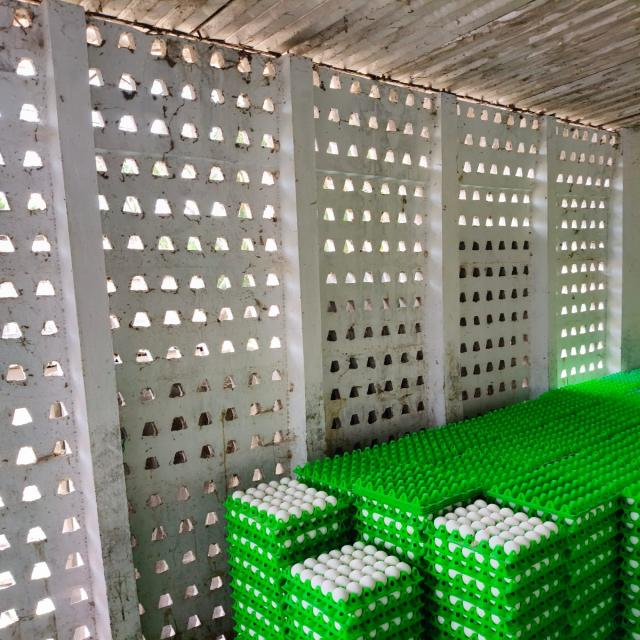egg_tray: (89, 22, 294, 640), (429, 498, 565, 634), (459, 201, 535, 416), (296, 421, 477, 504), (314, 68, 437, 186), (491, 432, 636, 523), (434, 391, 619, 456), (286, 541, 421, 630), (486, 417, 603, 516), (430, 525, 567, 607), (296, 428, 460, 496), (550, 194, 609, 382), (226, 478, 347, 569), (356, 489, 477, 579), (496, 498, 619, 585), (433, 498, 565, 578), (427, 566, 565, 638), (476, 390, 613, 461), (287, 541, 419, 612), (552, 500, 619, 633), (355, 496, 466, 569), (431, 556, 565, 616), (355, 450, 479, 514), (454, 421, 564, 490), (431, 559, 566, 613), (226, 478, 345, 539), (431, 566, 565, 620), (354, 456, 478, 514), (478, 412, 575, 486), (356, 490, 477, 546), (441, 405, 535, 476), (458, 392, 581, 446), (467, 405, 563, 474), (495, 387, 604, 445), (426, 589, 563, 635), (432, 555, 565, 602), (227, 519, 348, 570), (488, 487, 619, 534), (561, 389, 637, 470), (427, 596, 564, 640), (449, 421, 539, 487), (295, 446, 406, 499), (490, 490, 619, 535), (296, 446, 402, 500), (287, 598, 423, 640), (289, 598, 423, 640), (567, 395, 637, 474), (230, 545, 286, 640), (572, 434, 637, 514), (427, 603, 566, 640), (352, 426, 461, 469), (287, 607, 423, 640), (355, 521, 432, 579), (379, 424, 466, 475), (475, 440, 566, 488), (435, 404, 520, 454), (229, 545, 285, 619), (301, 443, 393, 486), (229, 547, 287, 614), (230, 570, 287, 638), (565, 554, 620, 624), (589, 427, 639, 501), (295, 448, 375, 493), (566, 514, 620, 579), (371, 425, 463, 462), (551, 500, 619, 549), (355, 496, 429, 540), (355, 512, 428, 556), (380, 423, 466, 460), (512, 424, 601, 459), (228, 546, 283, 602), (567, 514, 621, 570), (294, 458, 359, 502), (621, 486, 639, 640), (566, 586, 619, 638), (565, 591, 621, 640), (565, 559, 620, 608), (294, 464, 358, 505), (566, 592, 619, 640), (565, 545, 619, 591), (230, 572, 283, 615), (407, 423, 467, 460), (233, 600, 288, 640), (234, 601, 288, 640), (428, 616, 493, 640), (570, 611, 620, 640), (530, 457, 565, 498), (620, 487, 639, 553), (234, 618, 284, 640), (595, 369, 639, 394), (601, 378, 639, 406), (596, 617, 639, 640), (621, 557, 639, 610), (377, 622, 423, 640), (488, 520, 522, 543), (622, 484, 639, 521), (620, 608, 639, 640), (487, 469, 513, 489), (287, 625, 321, 640), (532, 625, 564, 640), (615, 476, 637, 493), (468, 188, 491, 200), (581, 432, 599, 446), (398, 434, 418, 444), (398, 474, 418, 484), (501, 192, 522, 201), (468, 489, 481, 502), (523, 519, 538, 530), (507, 472, 520, 484), (395, 441, 405, 455), (581, 448, 597, 456), (538, 405, 552, 413), (430, 450, 441, 459), (493, 542, 503, 551), (582, 398, 593, 406), (477, 416, 488, 424), (539, 468, 549, 475), (396, 502, 406, 509), (628, 370, 636, 378), (589, 447, 597, 455), (571, 424, 579, 432), (530, 511, 545, 515), (419, 509, 434, 513), (372, 465, 380, 472), (501, 424, 513, 428), (434, 440, 439, 449), (401, 436, 411, 440), (490, 461, 494, 471), (606, 406, 610, 415), (603, 417, 608, 424), (525, 470, 532, 475), (462, 456, 467, 463), (420, 492, 425, 498), (558, 491, 562, 498), (361, 636, 368, 640), (510, 496, 519, 499), (473, 466, 476, 475), (460, 190, 465, 195), (539, 563, 544, 568), (634, 613, 639, 618), (530, 406, 534, 412), (462, 493, 468, 497), (559, 620, 563, 626), (449, 524, 455, 528), (632, 567, 639, 570), (558, 174, 562, 179), (313, 608, 318, 612), (521, 456, 526, 460), (548, 418, 553, 422), (518, 455, 522, 460), (603, 410, 607, 415), (517, 480, 522, 484), (408, 476, 412, 481), (501, 425, 507, 428), (487, 433, 493, 436), (524, 465, 530, 468), (598, 452, 601, 458), (546, 408, 552, 411), (283, 566, 287, 570), (615, 504, 619, 508), (559, 622, 563, 626), (550, 524, 554, 528), (557, 418, 562, 421), (559, 453, 564, 456), (324, 458, 331, 460), (475, 450, 482, 452), (568, 460, 575, 462), (550, 432, 554, 435), (486, 437, 490, 440), (388, 443, 392, 446), (500, 454, 503, 458), (537, 500, 539, 506), (569, 387, 573, 390), (636, 609, 639, 613), (425, 573, 428, 577), (446, 520, 450, 523), (416, 502, 419, 506), (457, 491, 461, 494), (483, 455, 486, 459), (536, 444, 539, 448), (634, 638, 639, 640), (548, 418, 553, 420), (607, 417, 610, 420), (408, 591, 411, 594), (602, 446, 605, 449), (505, 515, 508, 518), (412, 508, 415, 511), (431, 473, 434, 476), (455, 466, 458, 469), (597, 466, 599, 470), (523, 416, 525, 420), (354, 638, 358, 640), (513, 417, 516, 419), (577, 419, 579, 422), (540, 484, 542, 487), (445, 454, 447, 457), (603, 426, 606, 428), (495, 419, 497, 422), (528, 511, 534, 512), (512, 418, 515, 420), (581, 572, 583, 575), (438, 521, 441, 523), (635, 409, 636, 414), (600, 498, 602, 500), (569, 517, 571, 519), (523, 438, 525, 440), (514, 494, 516, 496), (578, 458, 580, 460), (396, 473, 398, 475), (396, 472, 398, 474), (611, 418, 614, 419), (471, 482, 474, 483), (512, 505, 515, 506), (541, 403, 544, 404), (389, 465, 392, 466), (607, 447, 610, 448), (635, 467, 636, 470), (488, 525, 491, 526), (412, 495, 415, 496), (577, 187, 579, 188), (616, 624, 617, 626), (600, 500, 602, 501), (554, 424, 555, 426), (381, 445, 383, 446), (523, 473, 525, 474), (578, 481, 579, 483), (625, 418, 626, 420), (484, 529, 486, 530), (378, 524, 379, 526), (610, 417, 611, 418), (236, 620, 237, 621), (461, 494, 462, 495), (518, 449, 519, 450), (625, 427, 626, 428), (523, 509, 524, 510), (592, 387, 593, 388), (532, 516, 533, 517), (541, 484, 541, 486), (365, 510, 366, 510), (598, 452, 599, 452), (603, 452, 606, 452), (509, 428, 510, 428), (92, 138, 92, 139), (3, 114, 3, 115), (461, 592, 461, 592), (447, 456, 454, 456), (581, 636, 581, 636), (483, 416, 483, 417), (318, 461, 320, 461), (525, 458, 525, 459), (372, 463, 372, 464), (612, 425, 612, 426), (545, 458, 545, 459), (473, 492, 475, 492), (374, 450, 374, 450), (492, 536, 492, 536), (482, 536, 485, 536), (521, 522, 521, 524), (485, 417, 485, 419), (581, 443, 581, 443)
